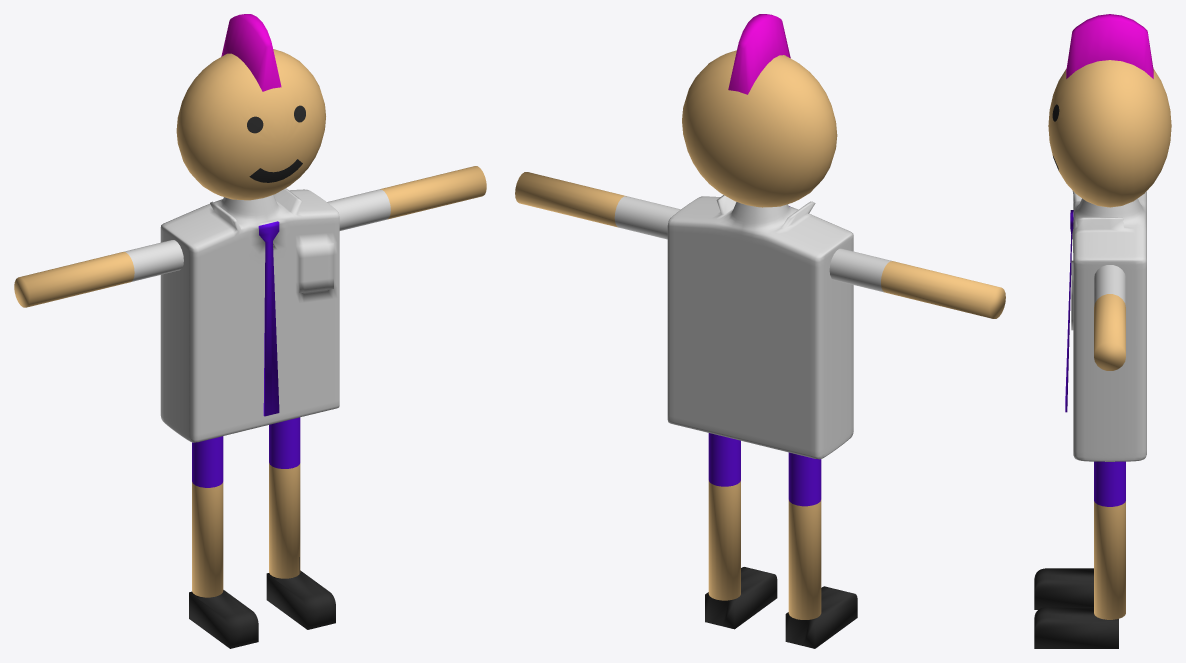
Rendered from mjo_character_student_school.glb.
The picture shows the model from 3 angles, left to right: view 1: azimuth 30°, elevation 25°; view 2: azimuth 150°, elevation 25°; view 3: azimuth 270°, elevation 25°; orthographic projection. The views are drawn at different scales.
Visible parts, largest first — view 1: Object001_Material_0, Object001_Material.004_0, Object001_Material.002_0, Object001_Material.005_0, Object001_Material.001_0; view 2: Object001_Material_0, Object001_Material.004_0, Object001_Material.002_0, Object001_Material.005_0, Object001_Material.001_0; view 3: Object001_Material.004_0, Object001_Material_0, Object001_Material.002_0, Object001_Material.001_0, Object001_Material.005_0.
Boxes of the visible parts, x1=… form: Object001_Material_0: x1=123, y1=188, x2=390, y2=442; Object001_Material.004_0: x1=14, y1=49, x2=486, y2=597; Object001_Material.002_0: x1=189, y1=105, x2=335, y2=648; Object001_Material.005_0: x1=192, y1=221, x2=300, y2=487; Object001_Material.001_0: x1=221, y1=14, x2=281, y2=91; Object001_Material_0: x1=614, y1=195, x2=891, y2=459; Object001_Material.004_0: x1=515, y1=50, x2=1005, y2=619; Object001_Material.002_0: x1=705, y1=567, x2=857, y2=648; Object001_Material.005_0: x1=708, y1=206, x2=821, y2=506; Object001_Material.001_0: x1=728, y1=14, x2=790, y2=94; Object001_Material.004_0: x1=1048, y1=60, x2=1171, y2=619; Object001_Material_0: x1=1071, y1=191, x2=1146, y2=461; Object001_Material.002_0: x1=1034, y1=104, x2=1118, y2=648; Object001_Material.001_0: x1=1066, y1=14, x2=1153, y2=78; Object001_Material.005_0: x1=1065, y1=210, x2=1125, y2=506.
Size of the model in its own units: 34.54 by 42.64 by 8.72.
